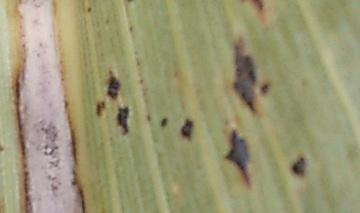tarspot: (231, 39, 257, 113), (225, 128, 251, 184), (106, 71, 121, 98), (117, 105, 129, 137), (292, 158, 306, 178), (181, 119, 193, 140), (96, 100, 105, 118), (261, 83, 269, 96), (252, 1, 263, 10), (160, 116, 168, 128), (86, 6, 92, 13), (1, 145, 6, 153)
